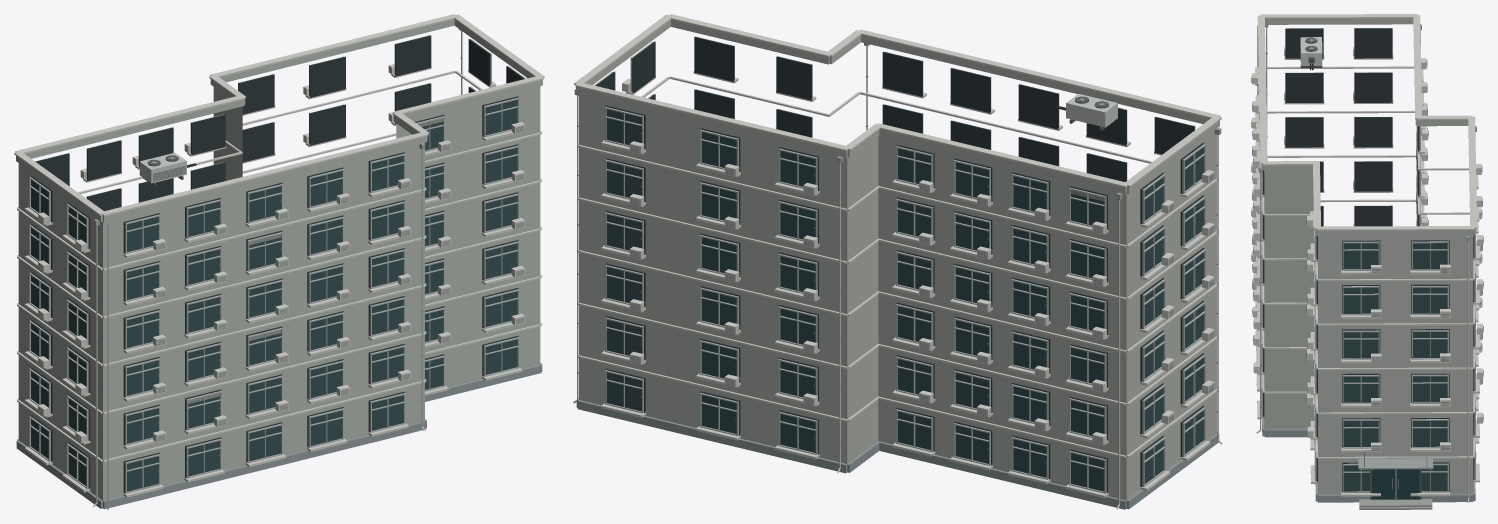
The model's file is osm_way_223859809.glb.
3 renders of one model, left to right at view 1: azimuth 30°, elevation 25°; view 2: azimuth 150°, elevation 25°; view 3: azimuth 270°, elevation 25°, orthographic. The views are drawn at different scales.
Visible parts, largest first — view 1: Architecture | 8, Windows and facade details | 8, Roof services | 8, EXTERIOR::osm_way_223859809::rainwater and roof service deta, EXTERIOR::osm_way_223859809::native pane seals and hardware; view 2: Architecture | 8, Windows and facade details | 8, Roof services | 8, EXTERIOR::osm_way_223859809::rainwater and roof service deta; view 3: Architecture | 8, Windows and facade details | 8, Roof services | 8, EXTERIOR::osm_way_223859809::inferred entry doors canopy and, EXTERIOR::osm_way_223859809::rainwater and roof service deta.
Boxes of the visible parts, box(x1,y1,x2,y2) form: Architecture | 8: box(16, 19, 542, 509); Windows and facade details | 8: box(24, 35, 525, 509); Roof services | 8: box(14, 14, 544, 216); EXTERIOR::osm_way_223859809::rainwater and roof service deta: box(93, 29, 462, 507); EXTERIOR::osm_way_223859809::native pane seals and hardware: box(48, 114, 516, 473); Architecture | 8: box(576, 20, 1219, 509); Windows and facade details | 8: box(594, 36, 1214, 497); Roof services | 8: box(574, 14, 1221, 187); EXTERIOR::osm_way_223859809::rainwater and roof service deta: box(573, 43, 1222, 509); Architecture | 8: box(1262, 18, 1475, 502); Windows and facade details | 8: box(1251, 25, 1483, 496); Roof services | 8: box(1257, 14, 1477, 230); EXTERIOR::osm_way_223859809::inferred entry doors canopy and: box(1358, 452, 1433, 509); EXTERIOR::osm_way_223859809::rainwater and roof service deta: box(1256, 24, 1476, 502).
Bounding box in the file's own units: 34.85 × 20.58 × 15.16.
